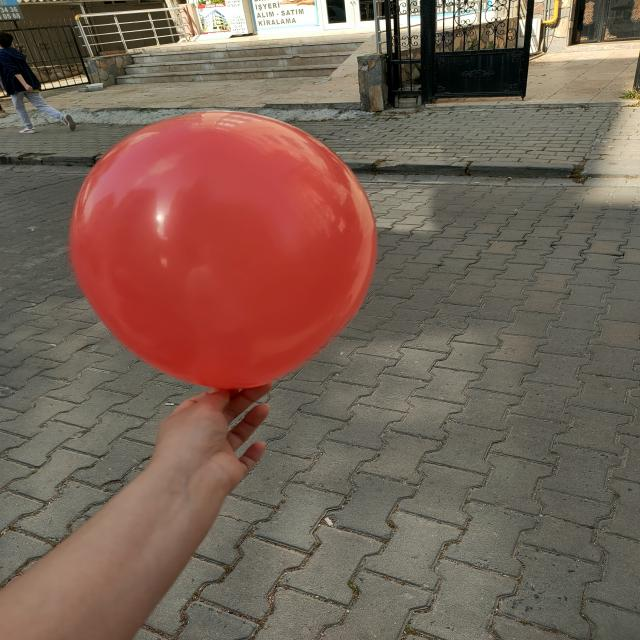red: (67, 113, 370, 389)
